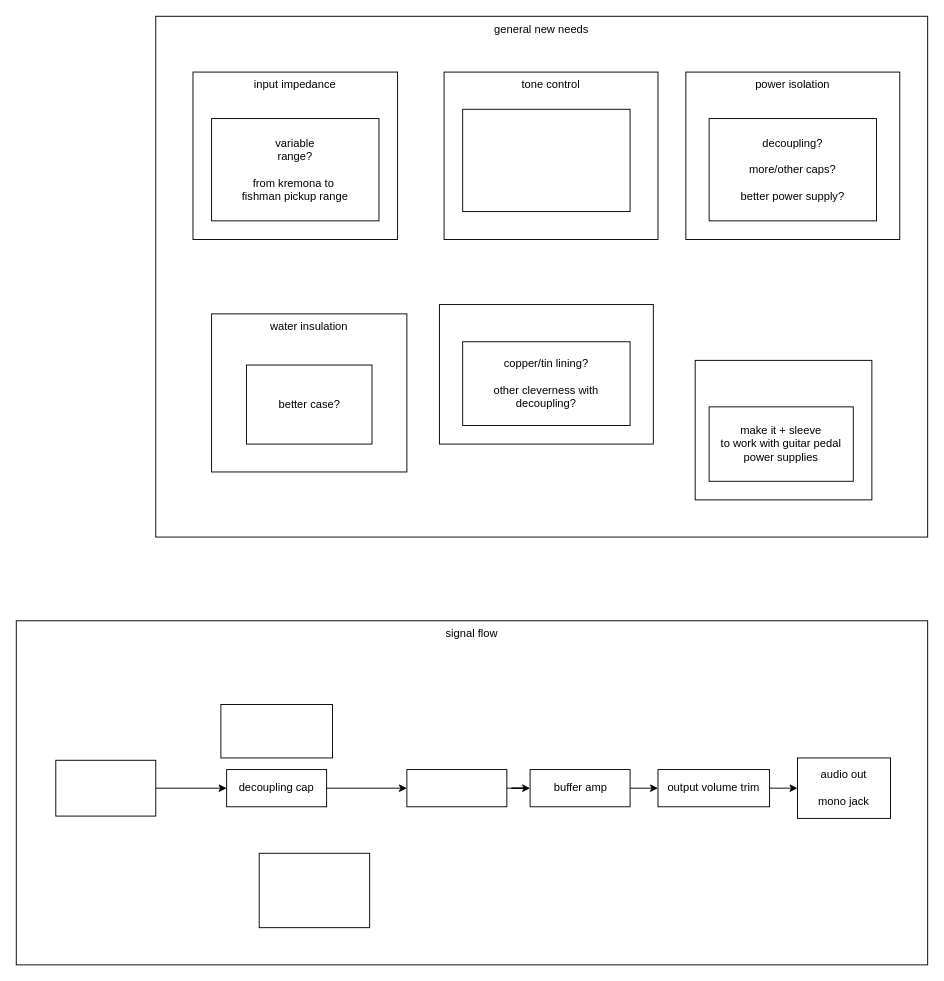
Image size: 944x981. Some labels were removed from this diagram. The box of each missing label's shape, as (x1, y1, x2, y2) in pixels:
(voltage divider for powering op amp, creating a virtual ground): (258, 852, 370, 928)
amplifier: (406, 769, 507, 807)
audio in mono jack: (55, 759, 156, 816)
input impedance adjustment? (what's the range?): (220, 704, 332, 758)
passive/active? low rollof? high rollof? further eq tuning?: (462, 108, 630, 212)
power polarity: (694, 359, 872, 500)
RF interference isolation?: (438, 304, 653, 444)
